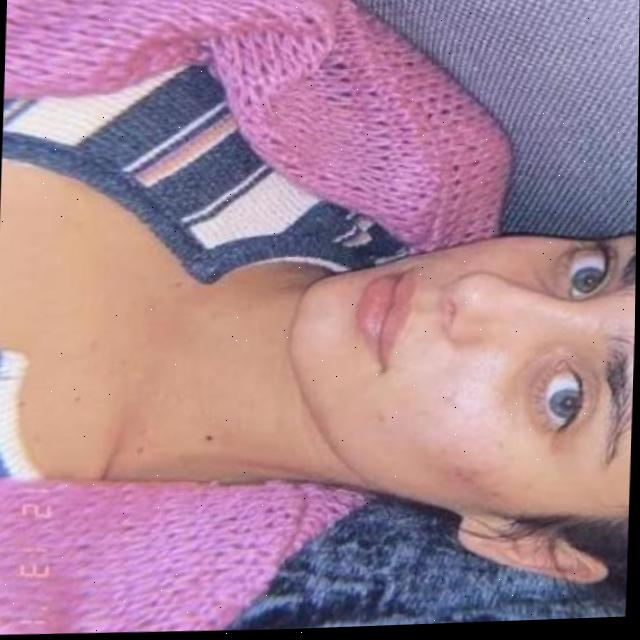Acne: (447, 432, 499, 501)
